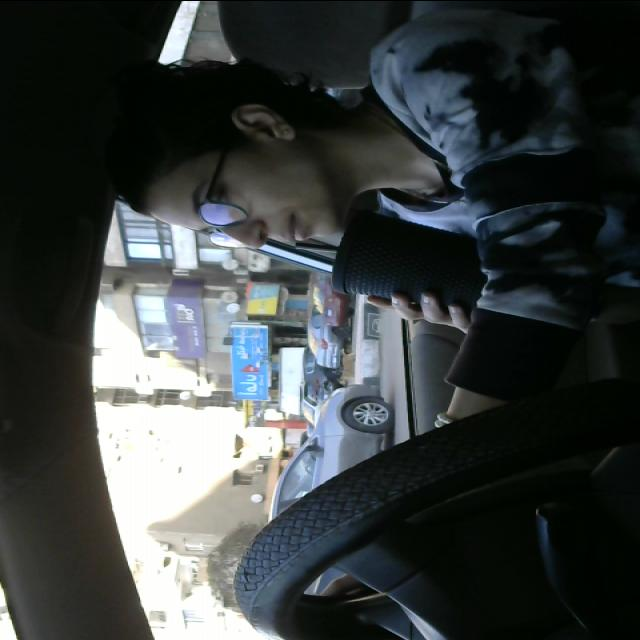drinking: (292, 204, 609, 332)
